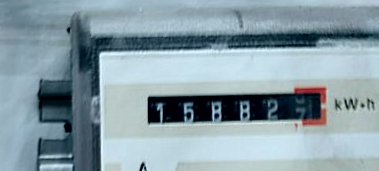1: (153, 100, 168, 122)
2: (264, 97, 281, 122)
5: (181, 99, 196, 124)
7: (295, 103, 307, 120)
8: (237, 98, 252, 123), (209, 99, 223, 123)
screen: (138, 79, 337, 142)
